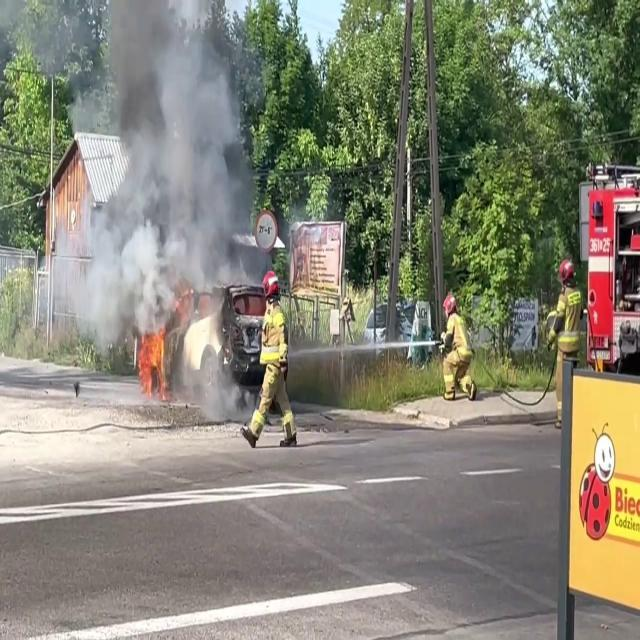Fire: (135, 319, 171, 392)
Smoke: (64, 1, 262, 351)
